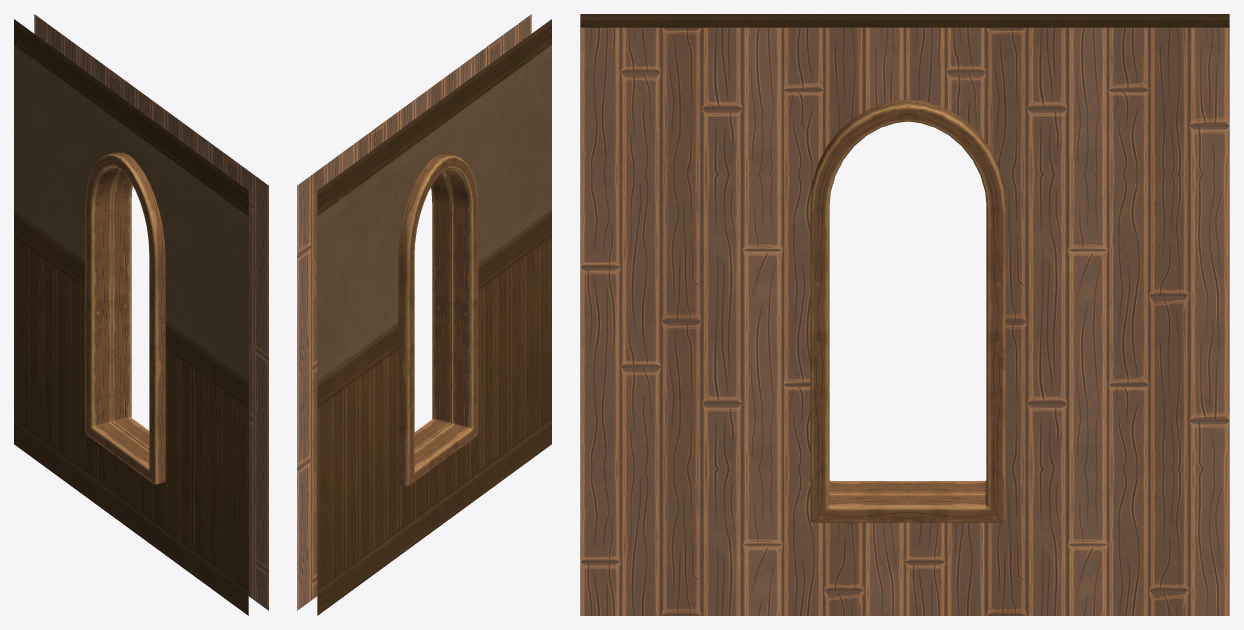
File: SM_Window_Wall_01.gltf
3 renders of one model, left to right at view 1: azimuth 30°, elevation 25°; view 2: azimuth 150°, elevation 25°; view 3: azimuth 270°, elevation 25°, orthographic. The views are drawn at different scales.
Visible parts, largest first — view 1: SM_Window_Wall_01; view 2: SM_Window_Wall_01; view 3: SM_Window_Wall_01.
Part boxes in pixels (x1=…): SM_Window_Wall_01: x1=14, y1=14, x2=268, y2=615; SM_Window_Wall_01: x1=297, y1=14, x2=551, y2=615; SM_Window_Wall_01: x1=580, y1=14, x2=1229, y2=615.
Size of what is drawn, in the model's own units: 0.4 by 4 by 4.
3 materials, 3 textured.
